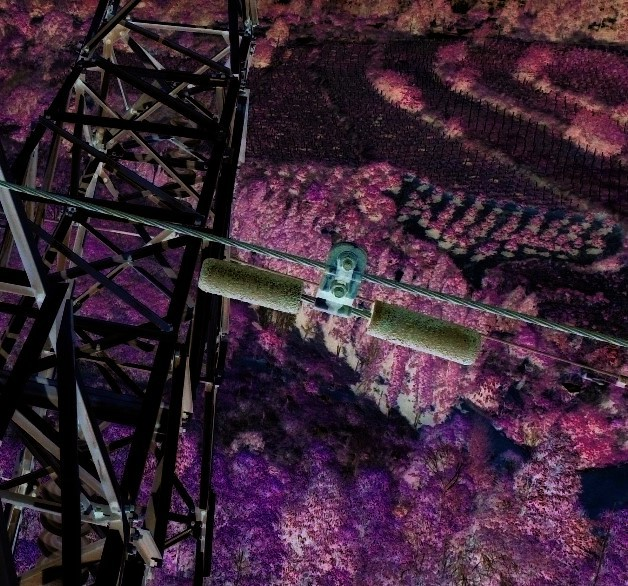Shockproof hammer: (196, 226, 489, 372)
